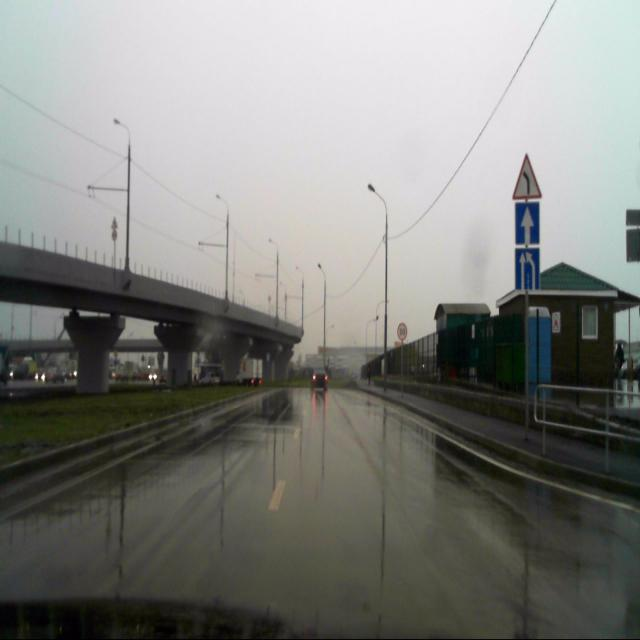object: (524, 292, 530, 442)
road sign: (512, 154, 542, 201), (514, 248, 541, 292), (516, 203, 539, 244)
